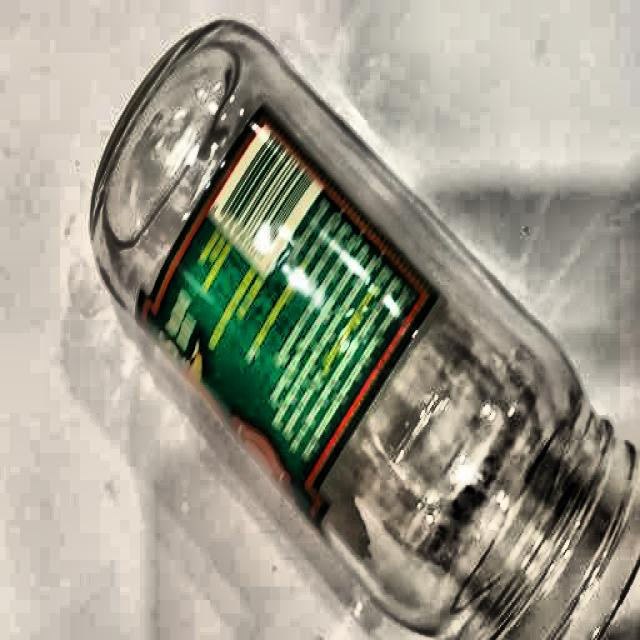glass: (88, 15, 639, 640)
